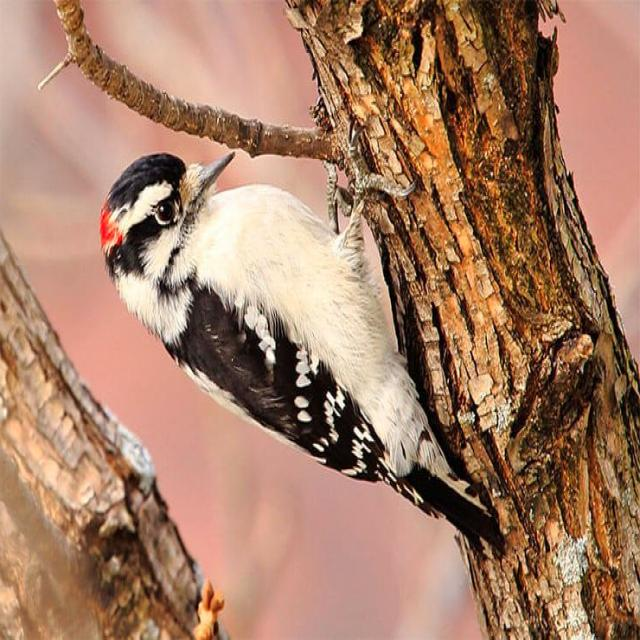woodpecker: (101, 121, 490, 538)
